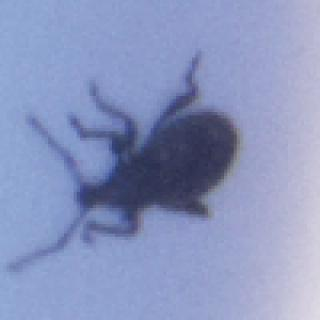bvw: (7, 49, 237, 270)
